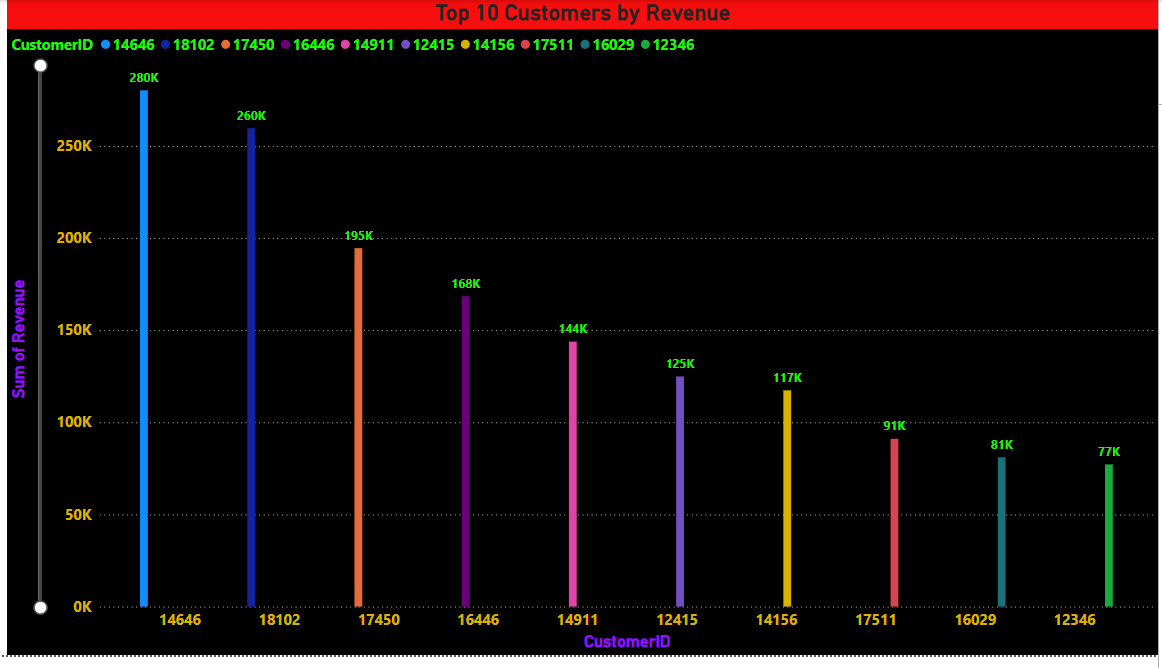

What the dashboard file says about the page in this screenshot:
{"tool":"powerbi","page":{"name":"Q3","canvas":[1280,720],"ordinal":2},"visuals":[{"type":"clusteredColumnChart","title":"Top 10 Customers by Revenue","fields":{"Category":["Online Retail.CustomerID"],"Y":["Sum(Online Retail.Revenue)"],"Series":["Online Retail.CustomerID"]},"box":[16,0,1264,720],"z":0}]}

Visuals, with their boxes in screenshot pixels (x1, y1, x2, y2), scaled from the page's 1280x720 canvas onto the 1162x668 screenshot:
"Top 10 Customers by Revenue" clusteredColumnChart: locate(15, 0, 1161, 667)
